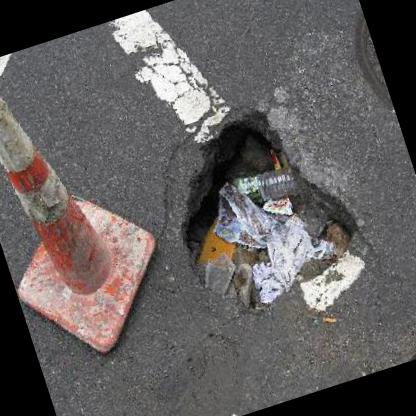pothole: (146, 86, 375, 330)
